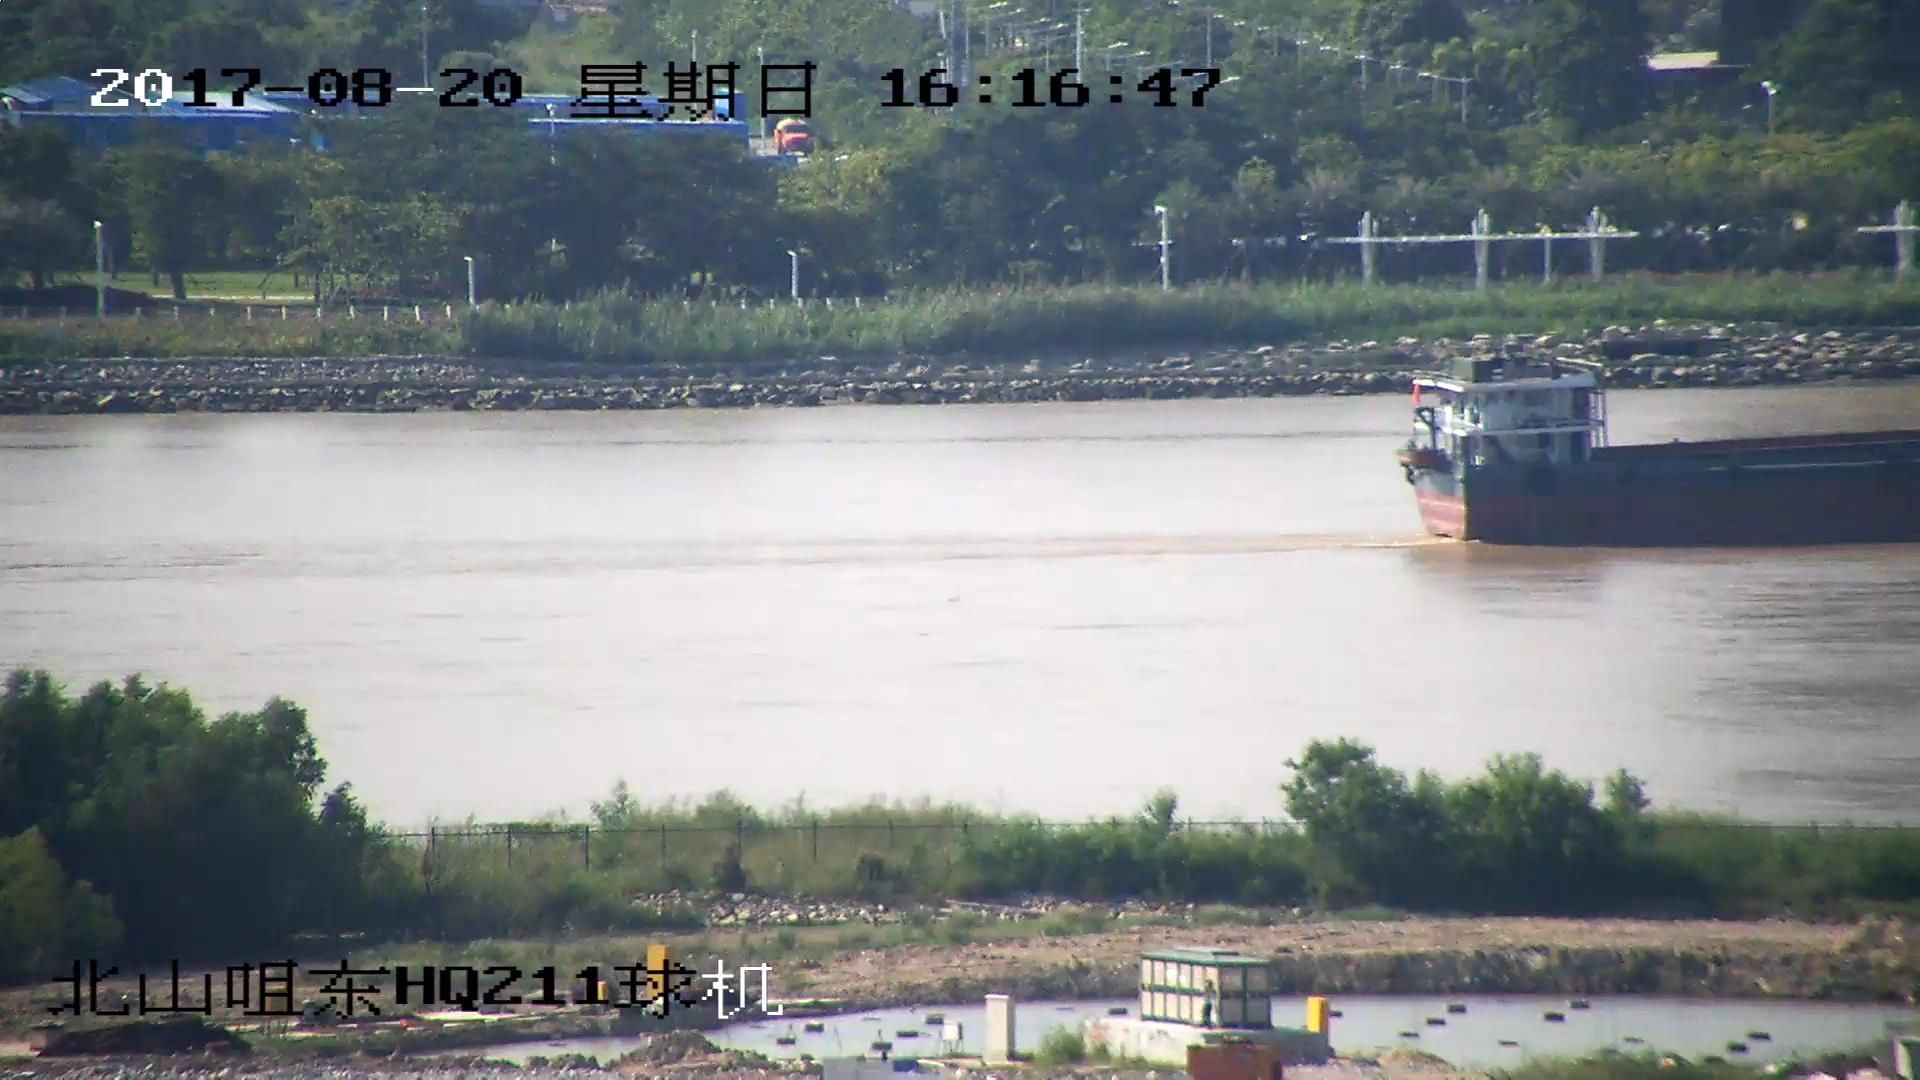general cargo ship: (1397, 358, 1920, 553)
